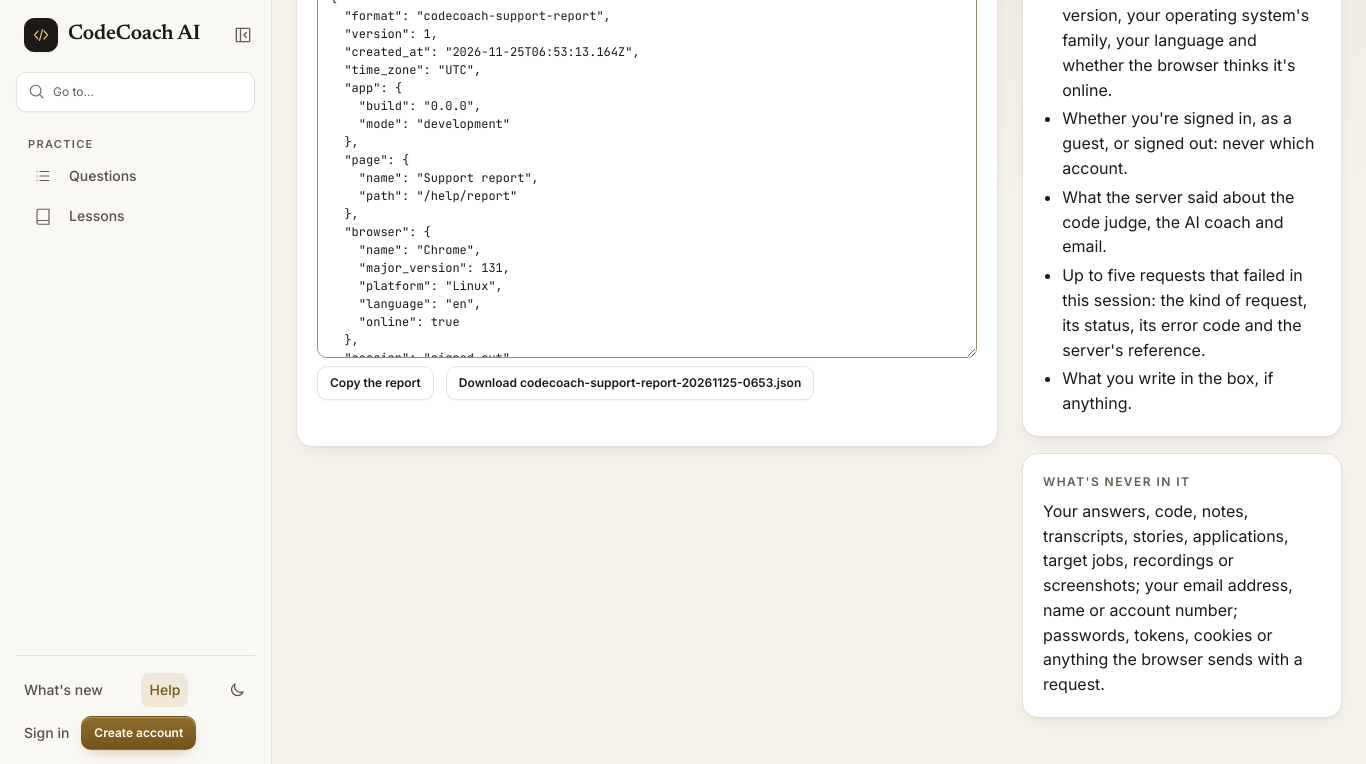
Test case: the report page › when copying is denied, the report is selected to copy by hand
(page scrolled)
Click the button "Copy the report" at (375, 383), box [317,366,434,400]
(page scrolled)
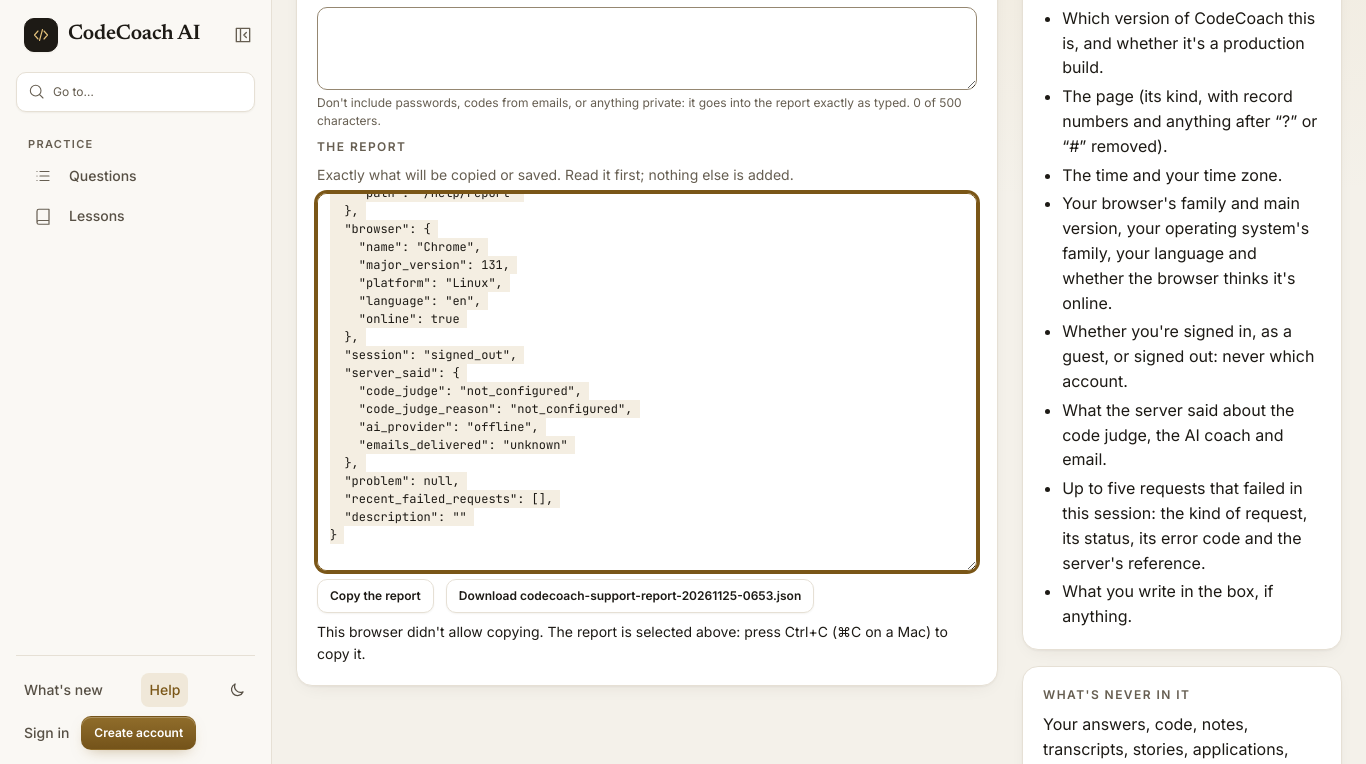
expect the message shows "This browser didn't allow copying. The report is selected above": met, box [317,623,948,662]
